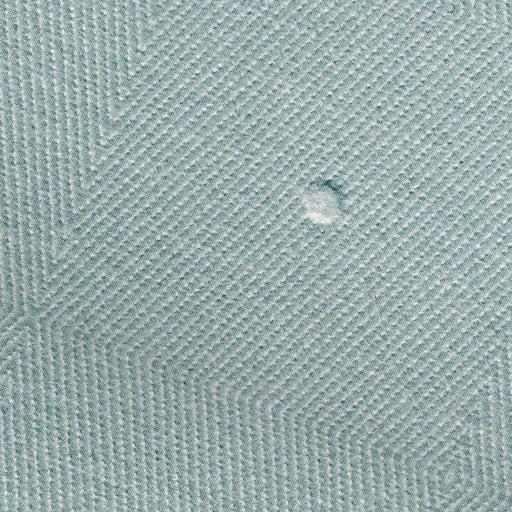knot: (298, 172, 358, 234)
